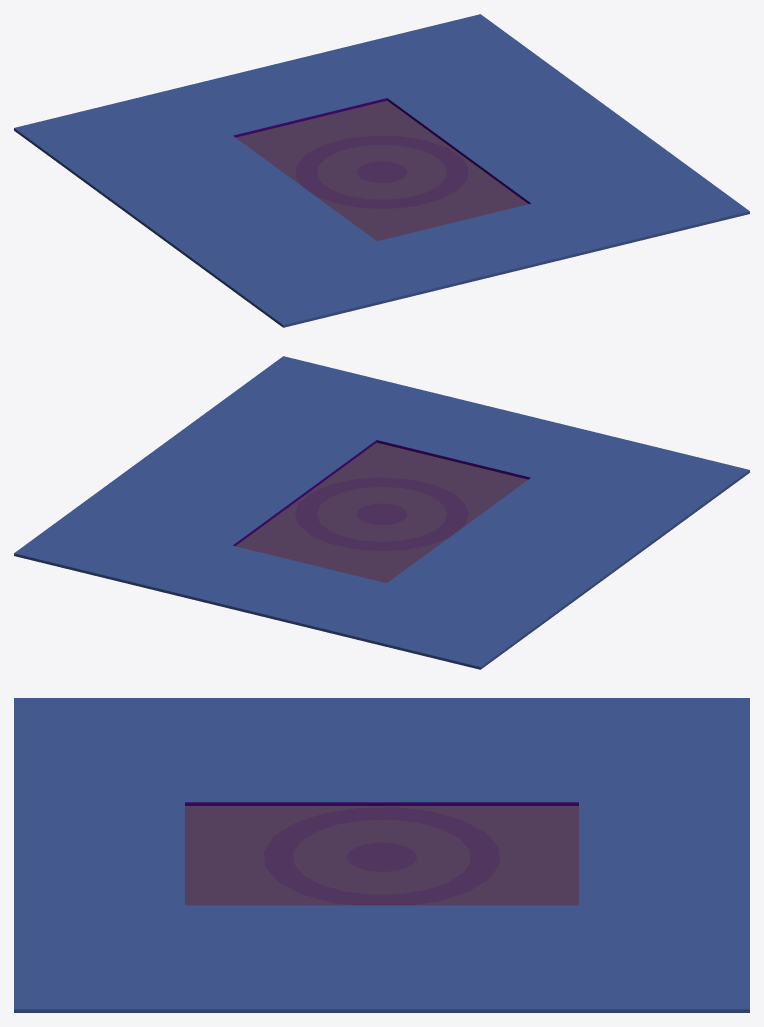
The model's file is GemGrab_Ground.fbx.
3 views of the same model, one above another, from view 1: azimuth 30°, elevation 25°; view 2: azimuth 150°, elevation 25°; view 3: azimuth 270°, elevation 25° (orthographic). The views are drawn at different scales.
Visible parts, largest first — view 1: 1_GemGrab_Ground; view 2: 1_GemGrab_Ground; view 3: 1_GemGrab_Ground.
Boxes of the visible parts, box(x1,y1,x2,y2) form: 1_GemGrab_Ground: box(14, 14, 749, 327); 1_GemGrab_Ground: box(14, 356, 749, 669); 1_GemGrab_Ground: box(14, 698, 749, 1012).
Bounding box in the file's own units: 128 × 128 × 0.7101.
